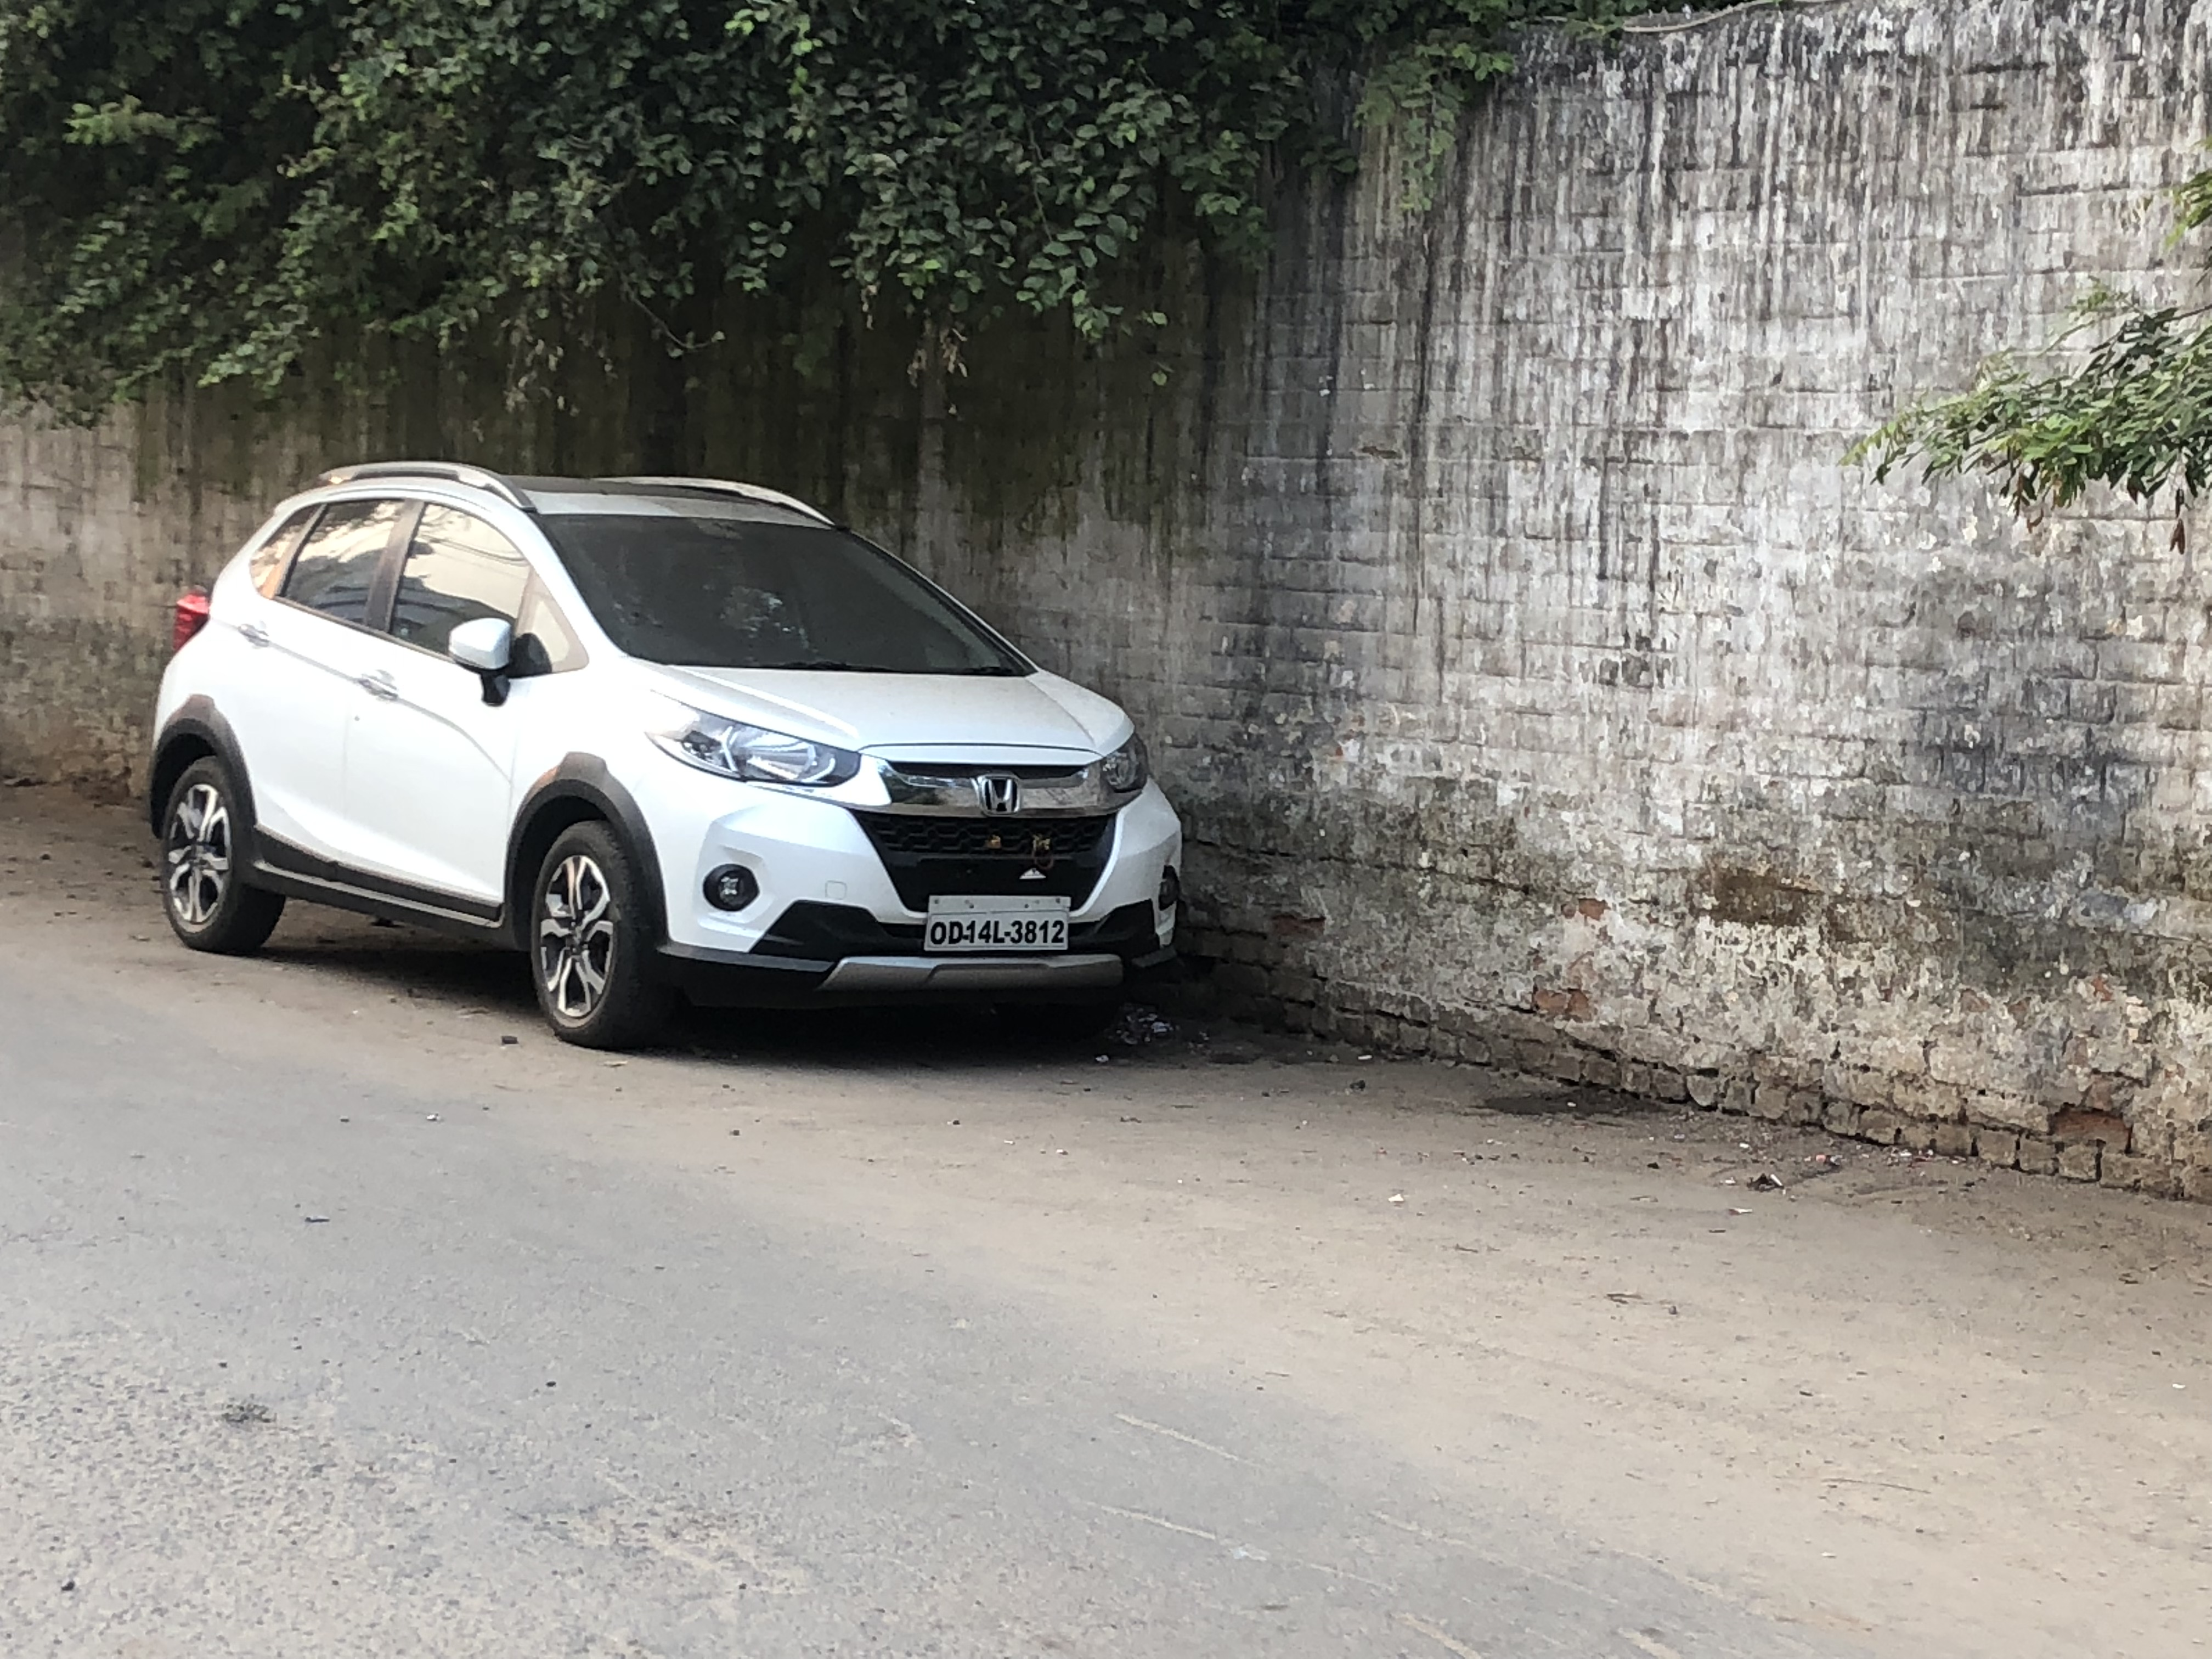licenseplate: (917, 889, 1080, 967)
